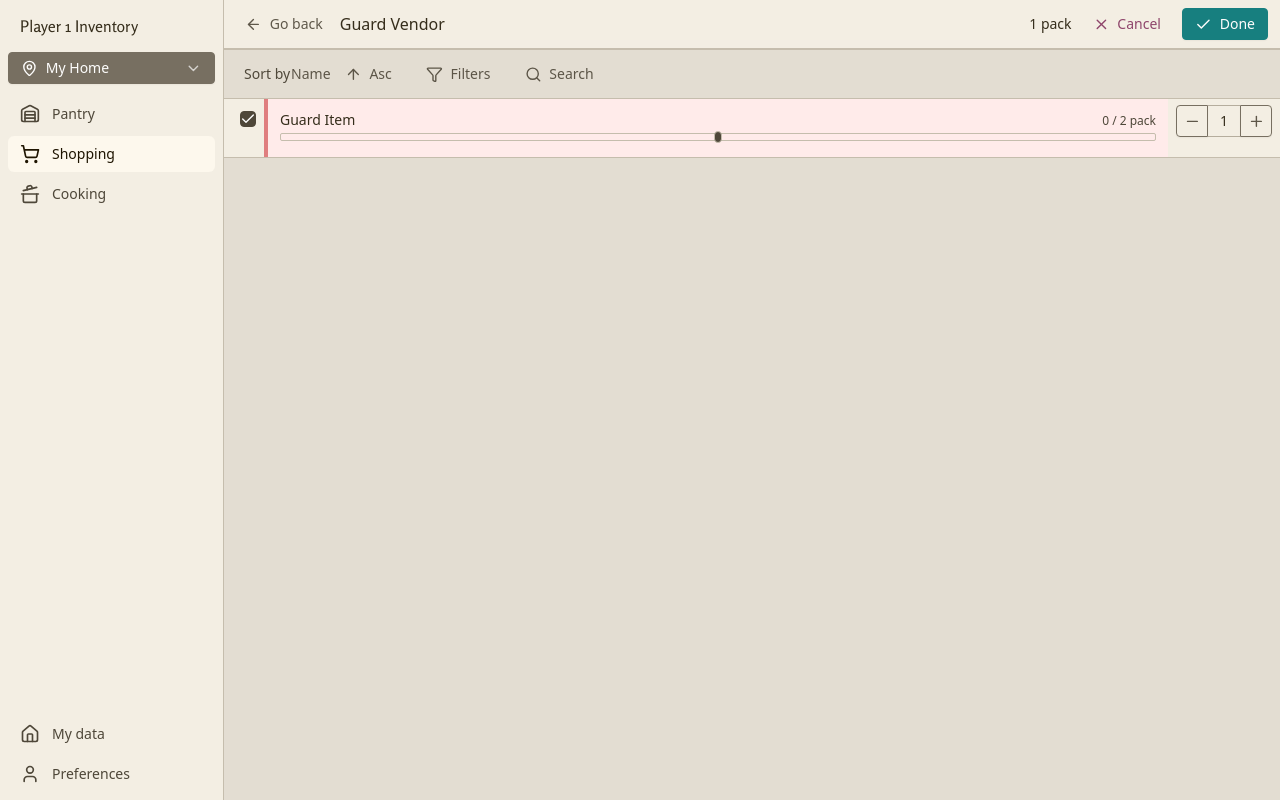
it: Vendor cart page › item checkbox is disabled while cart is not yet available
Expected: the text "1 pack" is shown, [1029,14,1072,34]
When user clicks the checkbox to remove from cart
Click the checkbox named "guard item": click(248, 119) [240,111,256,127]
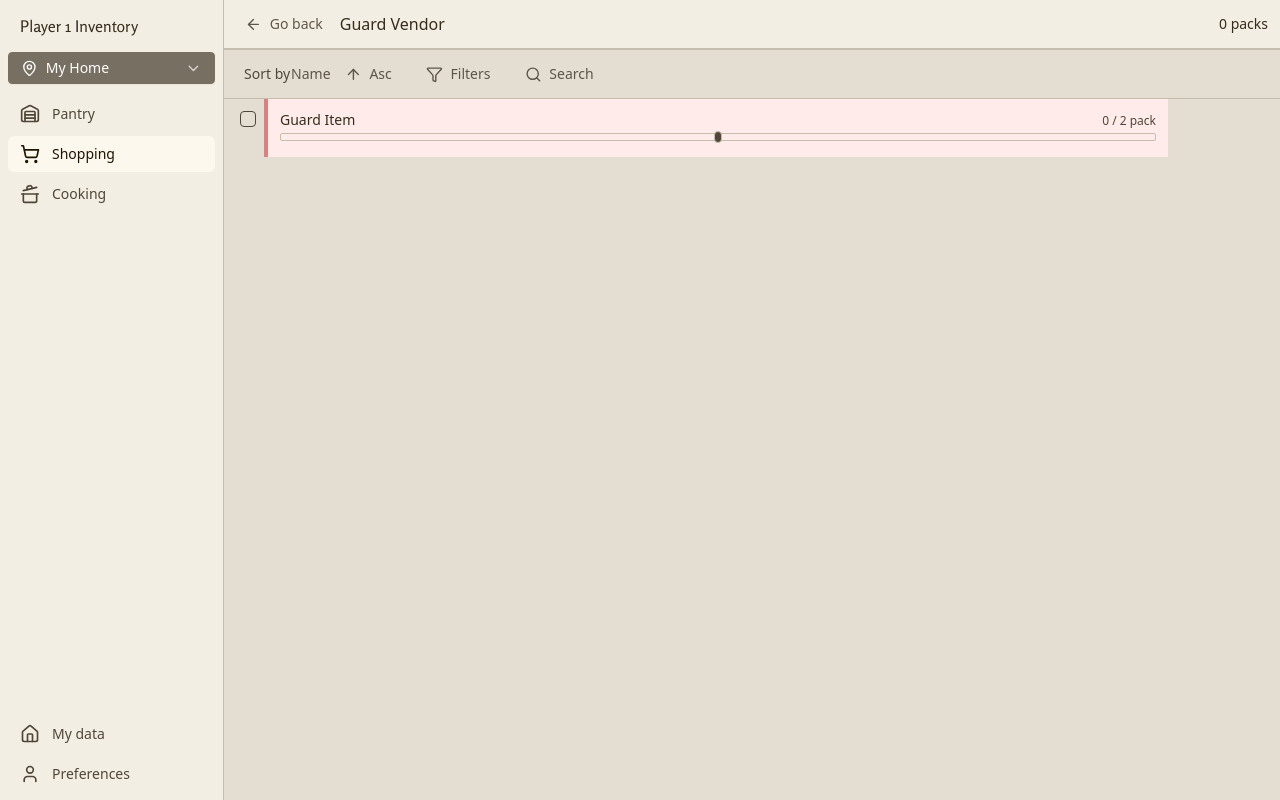
Now the text "0 packs" is shown, box [1219,14,1268,34]
